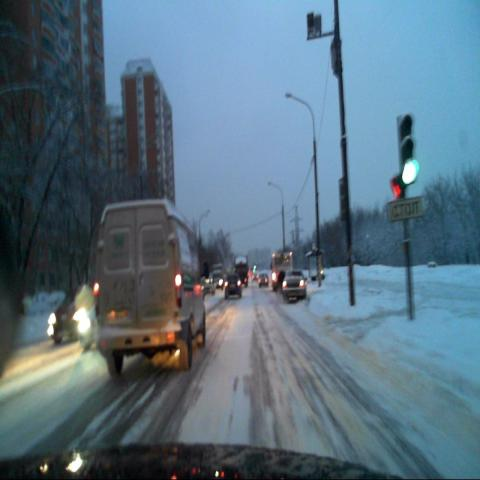6_16: (386, 197, 423, 221)
